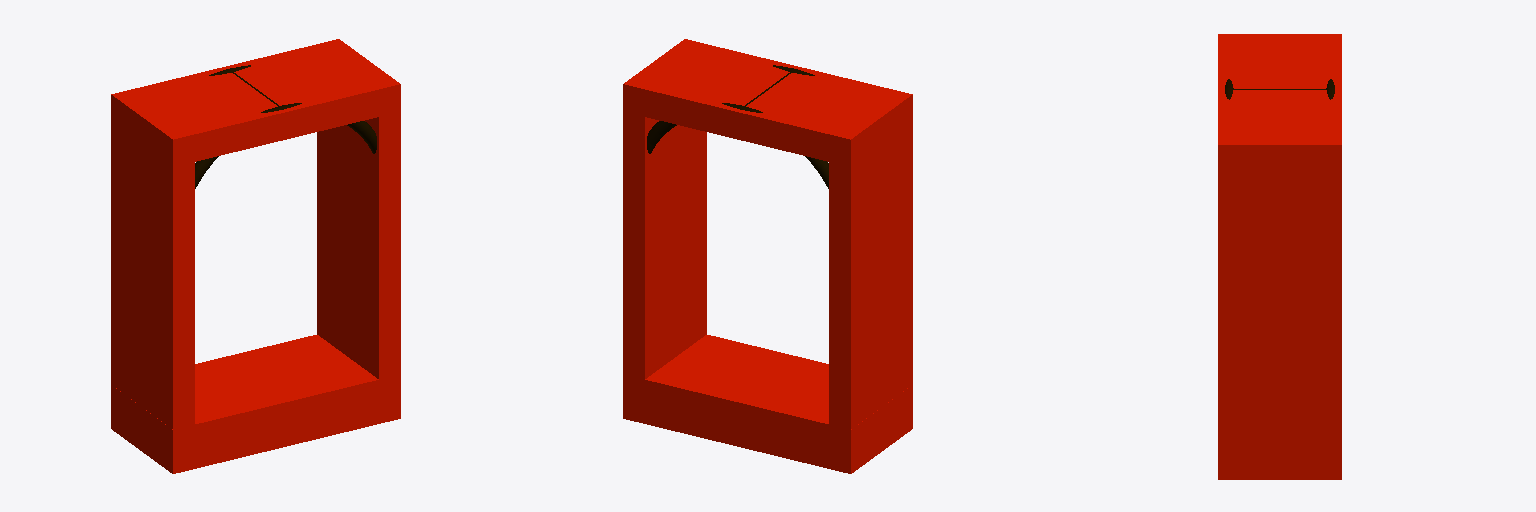
The picture shows the model from 3 angles: view 1: azimuth 30°, elevation 25°; view 2: azimuth 150°, elevation 25°; view 3: azimuth 270°, elevation 25°; orthographic projection.
Visible parts, largest first — view 1: UCX_dolley_01, UCX_dolley_00, UCX_dolley_02, UCX_dolley_03, luggage_dolley; view 2: UCX_dolley_01, UCX_dolley_00, UCX_dolley_02, UCX_dolley_03, luggage_dolley; view 3: UCX_dolley_00, UCX_dolley_02, UCX_dolley_03, luggage_dolley, UCX_dolley_01.
Part boxes in pixels (x1,y1,x2,y2): UCX_dolley_01: (111,89,194,429); UCX_dolley_00: (317,39,400,379); UCX_dolley_02: (111,44,400,163); UCX_dolley_03: (111,335,400,473); luggage_dolley: (111,65,400,442); UCX_dolley_01: (829,92,912,429); UCX_dolley_00: (623,39,706,379); UCX_dolley_02: (623,39,912,166); UCX_dolley_03: (623,335,912,473); luggage_dolley: (623,65,912,442); UCX_dolley_00: (1218,134,1341,434); UCX_dolley_02: (1218,34,1341,170); UCX_dolley_03: (1218,435,1341,479); luggage_dolley: (1218,79,1341,448); UCX_dolley_01: (1218,34,1341,43).
Size of the model in its own units: 5.65 by 7.97 by 2.66.
2 materials, 1 textured.